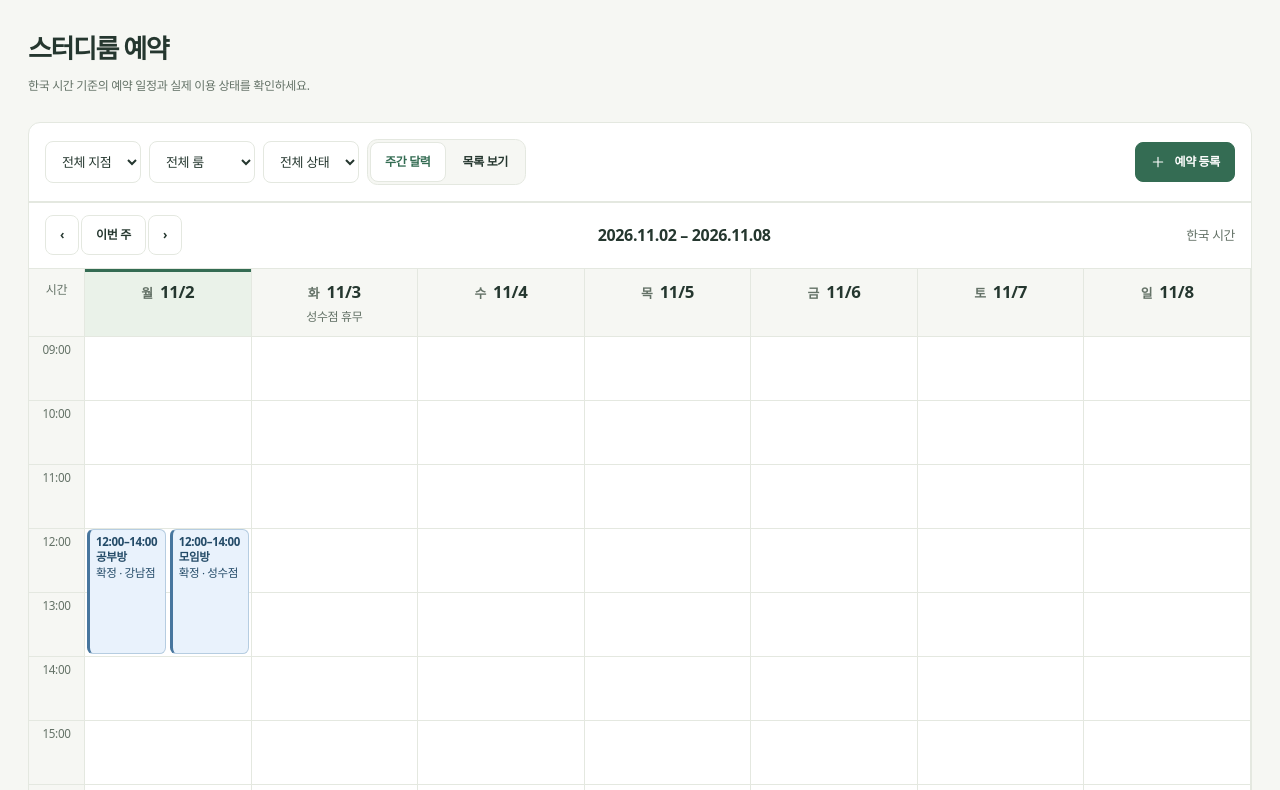
Scenario: opens the Korean business week across branches, separates overlapping reservations, and navigates by week
Click the button named "다음 주" at coordinates (165, 235), box [148,215,182,255]
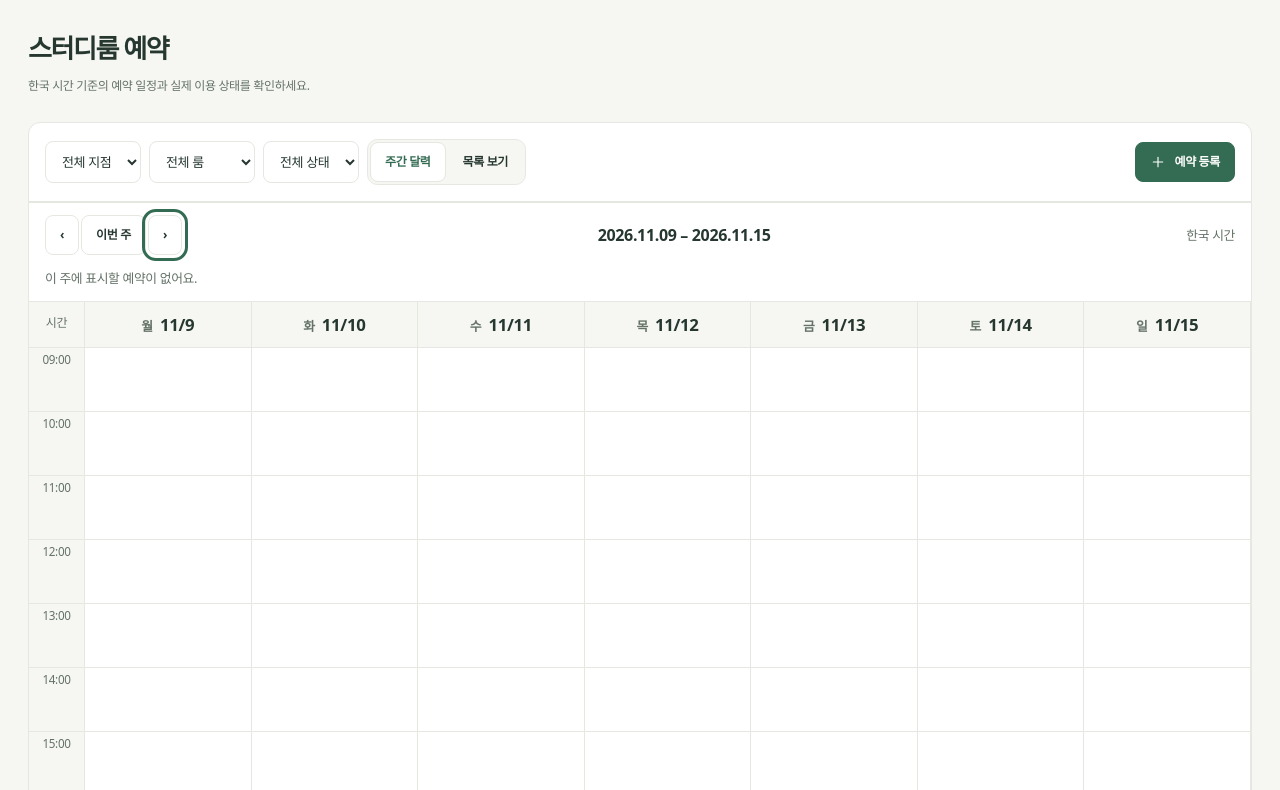
Click the button "이번 주" at coordinates (114, 235), box [81,215,146,255]
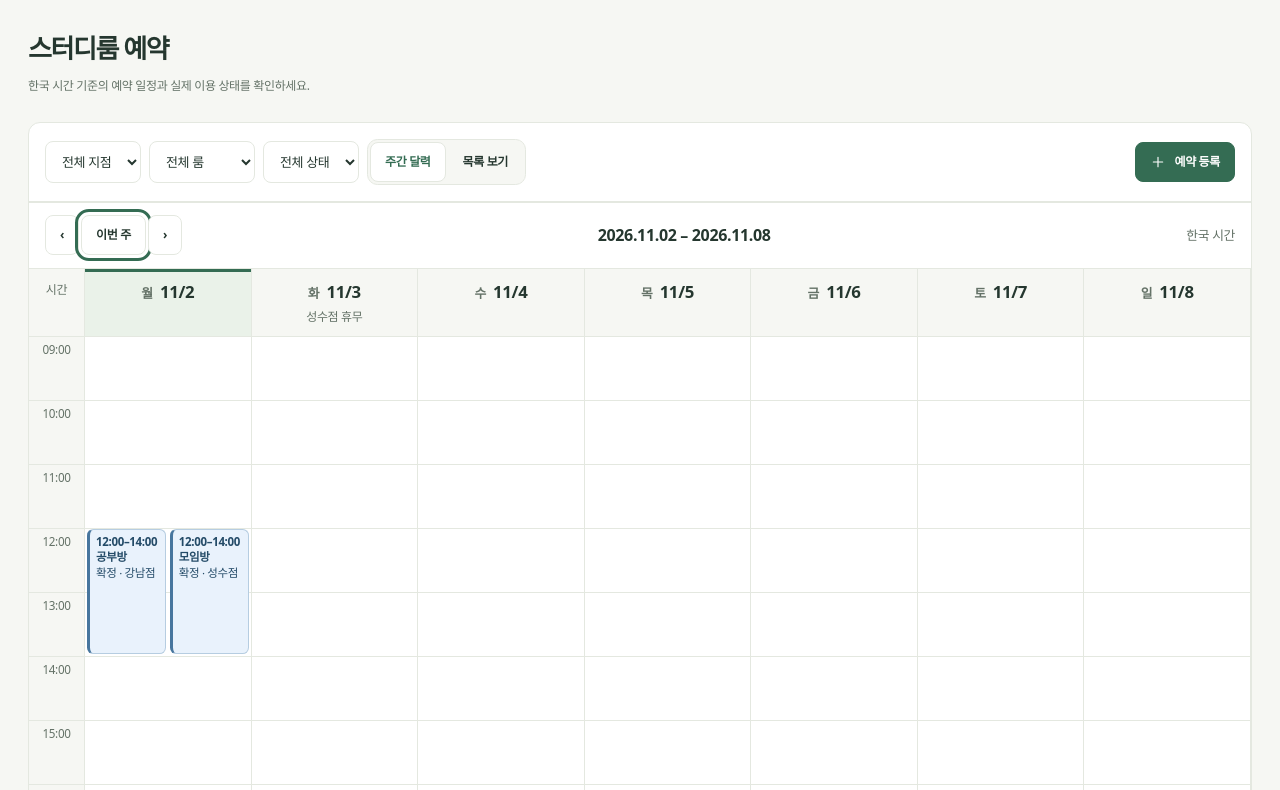
Expected: the button "12:00–14:00 공부방 확정 · 강남점" is shown, [87,529,166,654]
